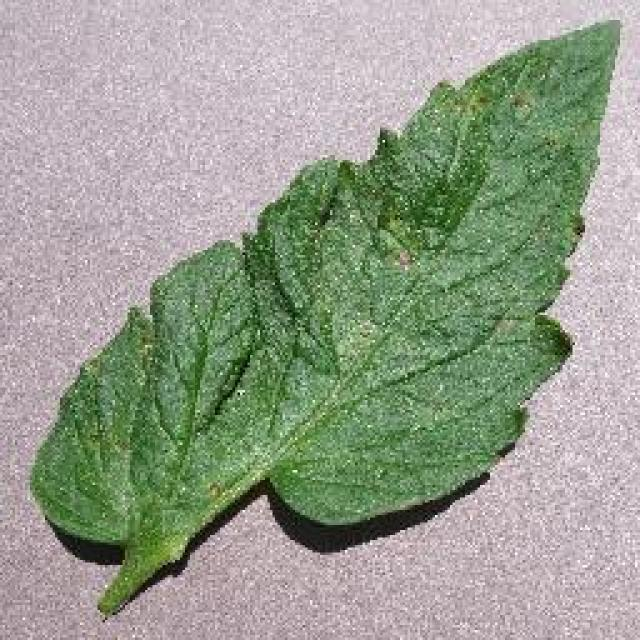Tomato___Septoria_leaf_spot: (30, 22, 618, 610)
